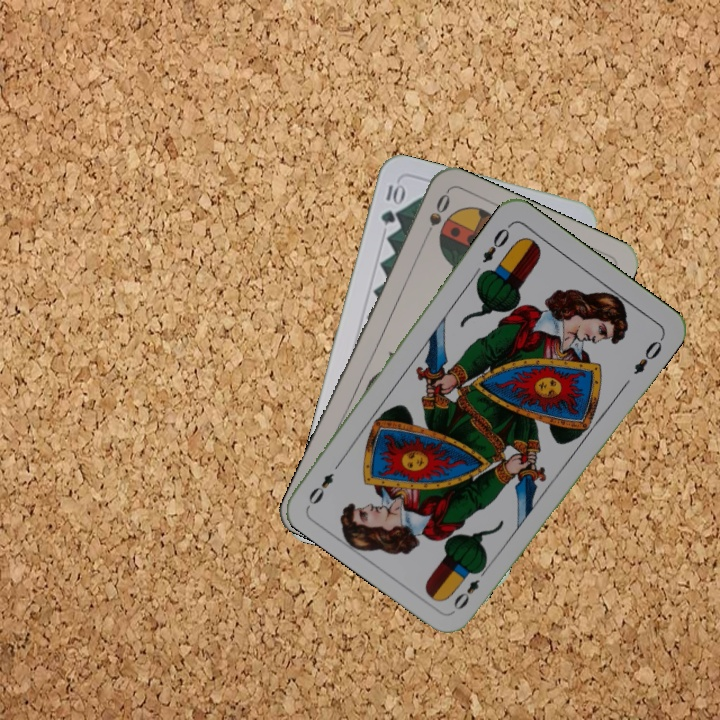EO: (449, 562, 491, 613), (478, 220, 514, 266)
G10: (376, 178, 407, 228)
SO: (420, 189, 453, 245)
